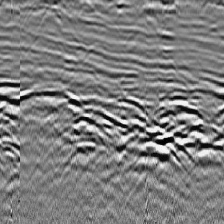cavities: (66, 81, 224, 169)
